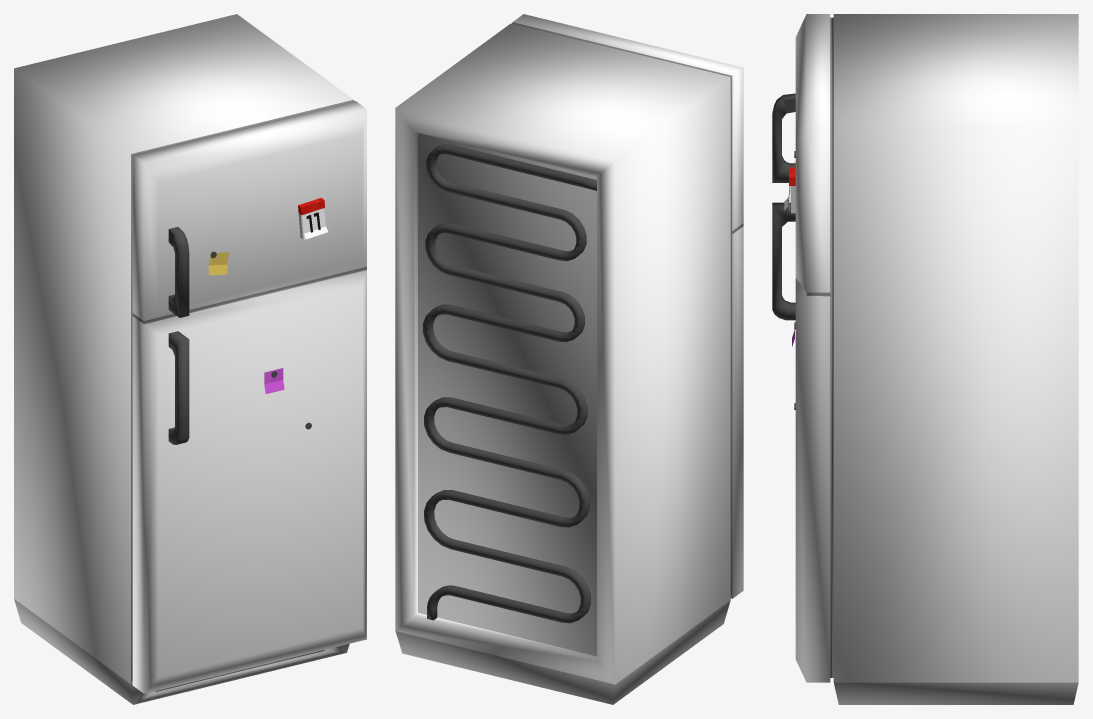
The model's file is fridge.glb.
The picture shows the model from 3 angles, left to right: view 1: azimuth 30°, elevation 25°; view 2: azimuth 150°, elevation 25°; view 3: azimuth 270°, elevation 25°; orthographic projection. The views are drawn at different scales.
Parts seen in each view (by area): view 1: Fridge; view 2: Fridge; view 3: Fridge.
Boxes of the visible parts, left/top/right/bottom form: Fridge: left=14, top=14, right=366, bottom=704; Fridge: left=395, top=14, right=743, bottom=704; Fridge: left=772, top=14, right=1078, bottom=704.
Bounding box in the file's own units: 0.6156 × 1.46 × 0.7.
1 material, 1 textured.
